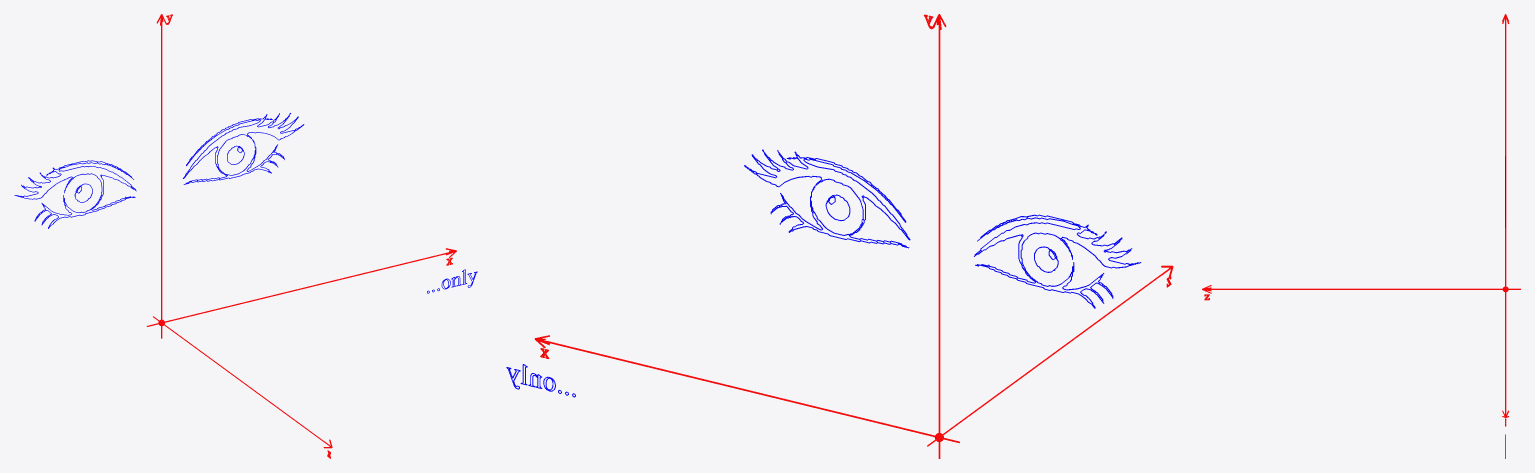
The picture shows the model from 3 angles, left to right: view 1: azimuth 30°, elevation 25°; view 2: azimuth 150°, elevation 25°; view 3: azimuth 270°, elevation 25°; orthographic projection. The views are drawn at different scales.
Size of the model in its own units: 1.57 by 1.13 by 1.05.
